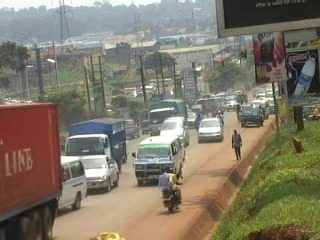Car: (74, 152, 122, 196), (158, 115, 191, 148), (196, 115, 225, 144), (123, 118, 140, 140), (185, 110, 200, 128), (220, 99, 238, 112), (140, 118, 152, 136)
Motorcycle: (156, 172, 187, 214), (218, 111, 224, 126)
